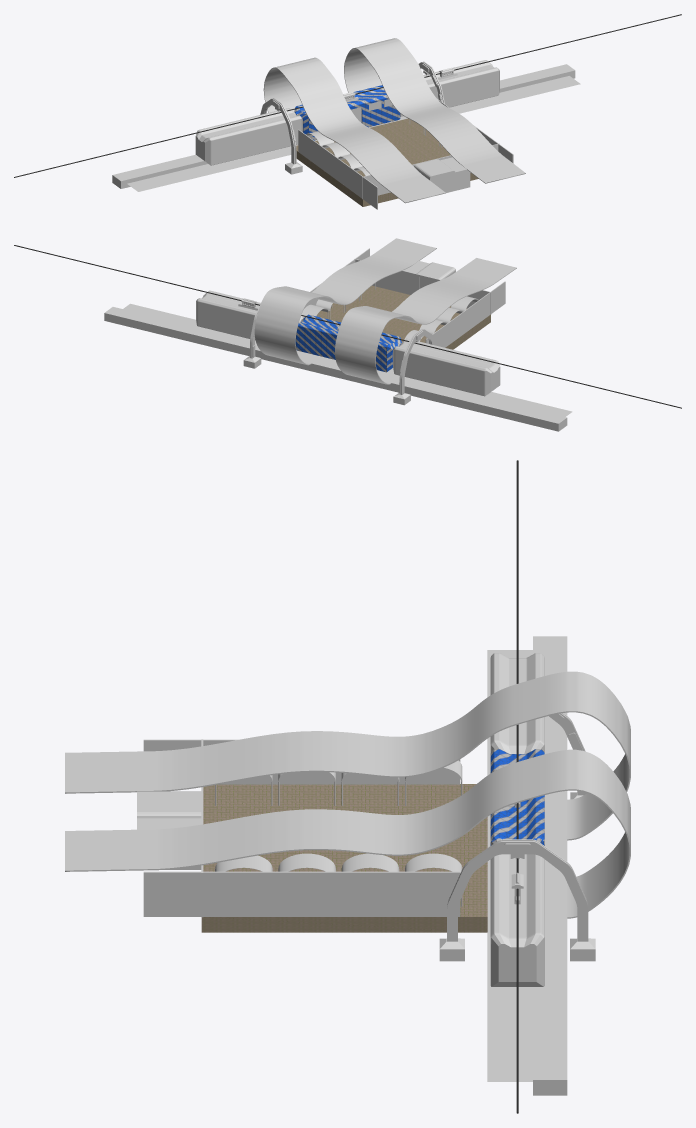
The model's file is TrainStationBlockOut2.fbx.
3 renders of one model, top to bottom at view 1: azimuth 30°, elevation 25°; view 2: azimuth 150°, elevation 25°; view 3: azimuth 270°, elevation 25°, orthographic. The views are drawn at different scales.
Visible parts, largest first — view 1: Cube.005, Cube.003, Cube.053, Plane, Cube, Cube.052, Cube.001, Cube.055, Cube.034, Cube.059, Cylinder.003, Cylinder.002 (+2 smaller); view 2: Cube.001, Cube.005, Cube.003, Cube.053, Cube, Cube.034, Cube.052, Cube.055, Plane, Cube.004, Cylinder.003, Cylinder.002 (+3 smaller); view 3: Cube.005, Cube.003, Cube, Cube.054, Cube.001, Cube.052, Plane, Cube.055, Cylinder.001, Cube.053, Plane.003, Cube.034 (+2 smaller).
Boxes of the visible parts, left/top/right/bottom form: Cube.005: left=344, top=38, right=525, bottom=183; Cube.003: left=263, top=57, right=445, bottom=203; Cube.053: left=195, top=108, right=302, bottom=165; Plane: left=127, top=76, right=580, bottom=191; Cube: left=296, top=118, right=478, bottom=206; Cube.052: left=423, top=60, right=499, bottom=107; Cube.001: left=112, top=64, right=575, bottom=188; Cube.055: left=298, top=129, right=377, bottom=209; Cube.034: left=294, top=85, right=400, bottom=140; Cube.059: left=414, top=157, right=470, bottom=192; Cylinder.003: left=14, top=14, right=681, bottom=177; Cylinder.002: left=306, top=131, right=370, bottom=175; Cube.001: left=104, top=307, right=567, bottom=431; Cube.005: left=254, top=238, right=436, bottom=365; Cube.003: left=335, top=258, right=516, bottom=384; Cube.053: left=393, top=338, right=500, bottom=396; Cube: left=316, top=285, right=490, bottom=349; Cube.034: left=295, top=314, right=401, bottom=372; Cube.052: left=196, top=290, right=302, bottom=340; Cube.055: left=425, top=281, right=505, bottom=347; Plane: left=123, top=303, right=572, bottom=416; Cube.004: left=354, top=259, right=491, bottom=314; Cylinder.003: left=14, top=245, right=681, bottom=408; Cylinder.002: left=404, top=296, right=478, bottom=341; Cube.005: left=65, top=749, right=630, bottom=918; Cube.003: left=65, top=671, right=630, bottom=840; Cube: left=201, top=784, right=487, bottom=932; Cube.054: left=143, top=871, right=460, bottom=916; Cube.001: left=533, top=636, right=567, bottom=1095; Cube.052: left=490, top=854, right=544, bottom=986; Plane: left=487, top=650, right=532, bottom=1081; Cube.055: left=143, top=739, right=460, bottom=784; Cylinder.001: left=215, top=853, right=462, bottom=906; Cube.053: left=490, top=653, right=544, bottom=753; Plane.003: left=447, top=841, right=588, bottom=941; Cube.034: left=490, top=749, right=544, bottom=845.
Bounding box in the file's own units: 8484 × 926 × 3116.
